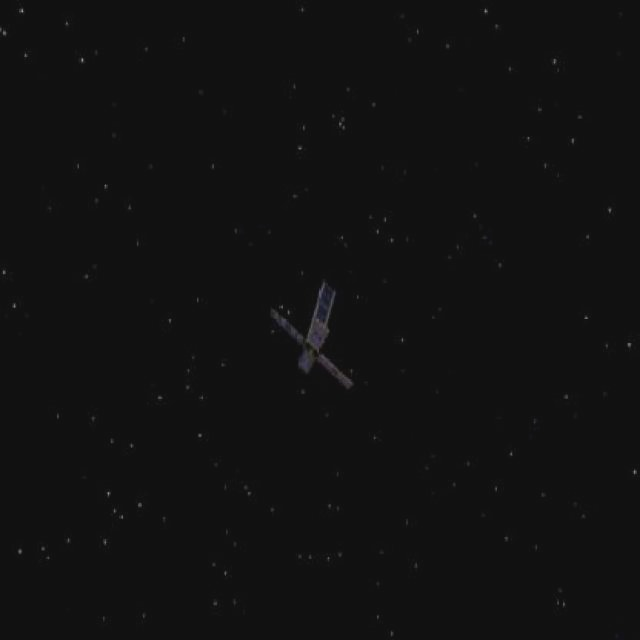medium_debris: (261, 259, 357, 405)
